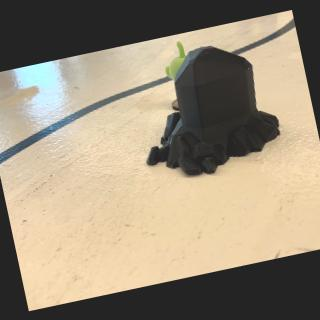teletubby: (165, 41, 186, 80)
